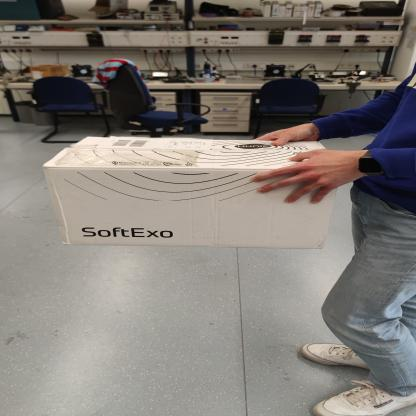-: (46, 122, 337, 255)
